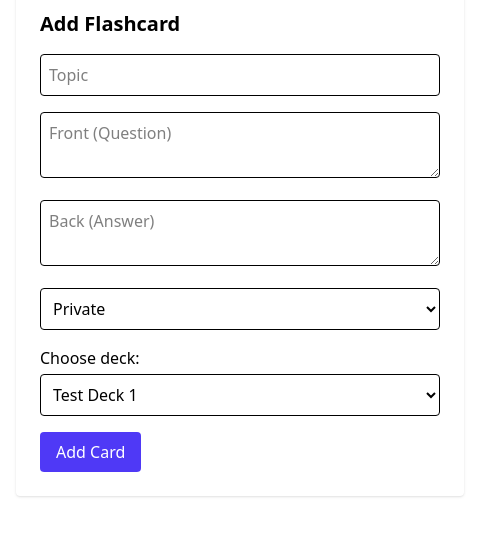
AddCardForm › handles API errors gracefully
Type "Test Topic" into the field with placeholder "Topic".
click(240, 75); type("Test Topic")  # box top-left (40, 54), bottom-right (440, 96)
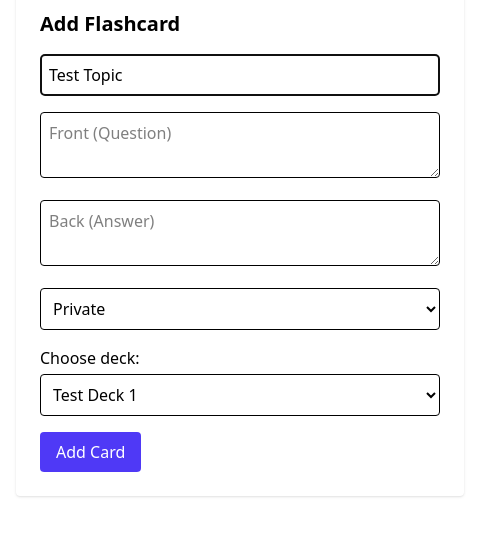
Type "Test Question" into the text box with placeholder "Front (Question)".
click(240, 145); type("Test Question")  # box top-left (40, 112), bottom-right (440, 178)
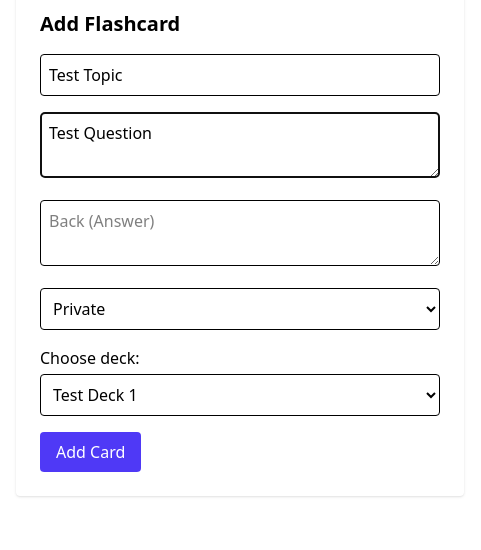
Type "Test Answer" into the text box with placeholder "Back (Answer)".
click(240, 233); type("Test Answer")  # box top-left (40, 200), bottom-right (440, 266)
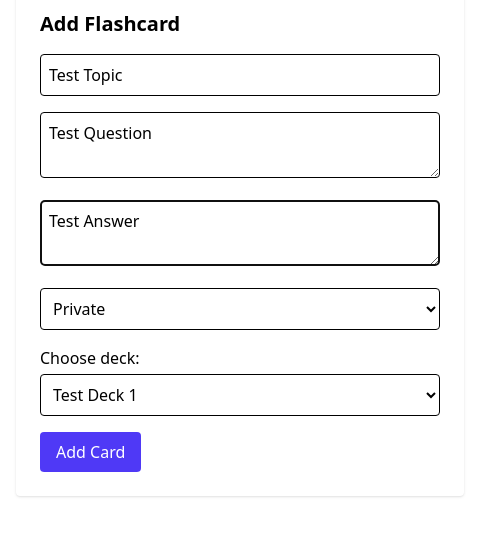
Select "Test Deck 1" in the dropdown with test id "deck-select" at (240,395), box top-left (40, 374), bottom-right (440, 416)
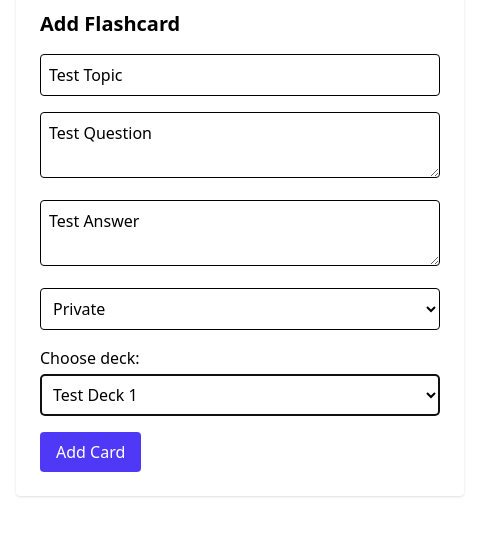
Click the button "Add Card".
click(91, 452)  # box top-left (40, 432), bottom-right (141, 472)
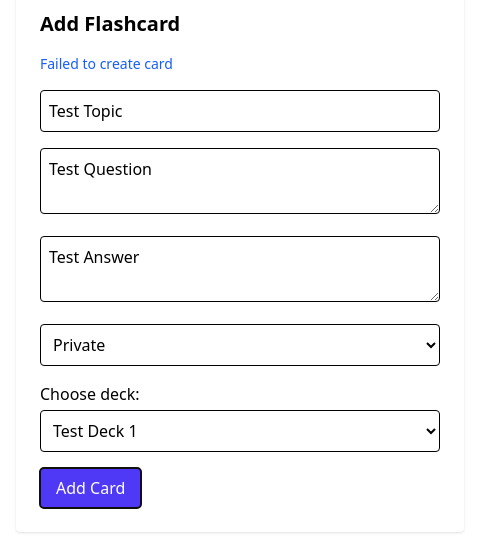
Now the text "Failed to create card" is shown, box top-left (40, 54), bottom-right (173, 73)
